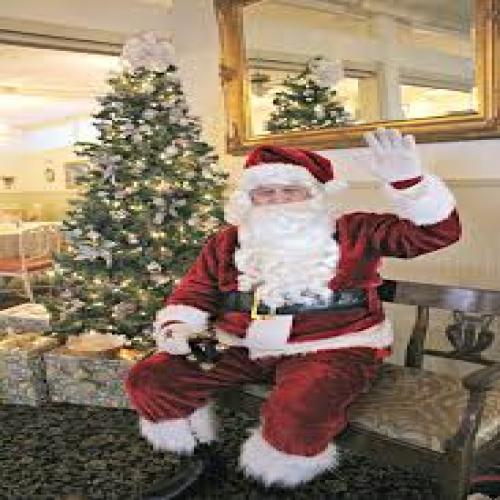Santa: (123, 125, 464, 500)
